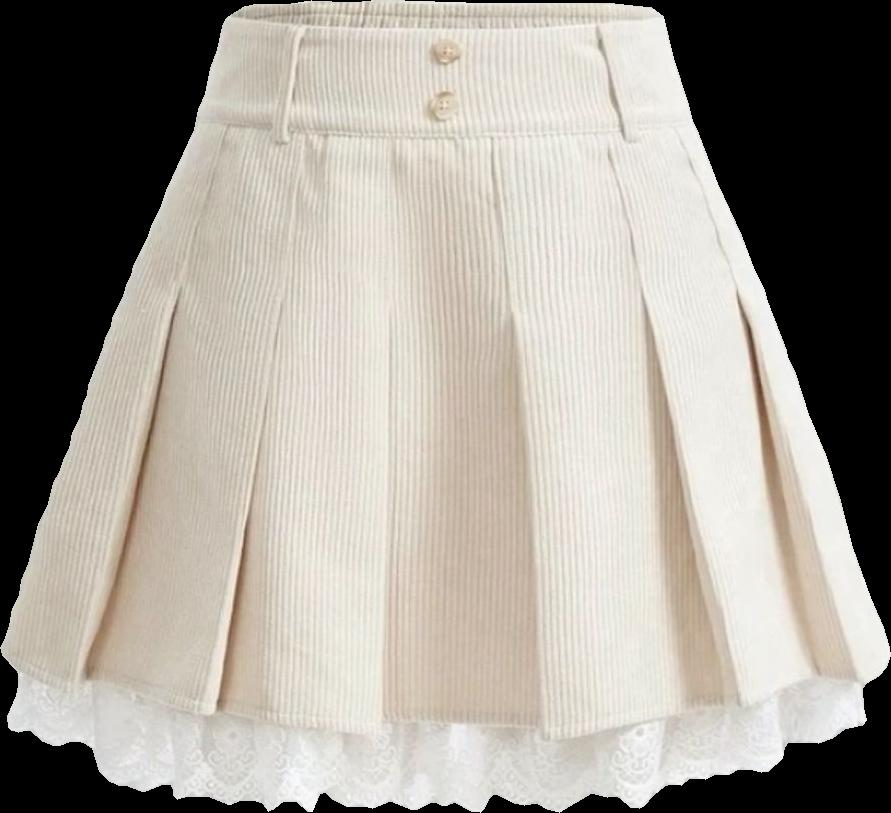Hemline: (0, 646, 890, 744), (0, 718, 870, 812)
Waistline: (195, 113, 695, 144), (224, 4, 658, 36)
